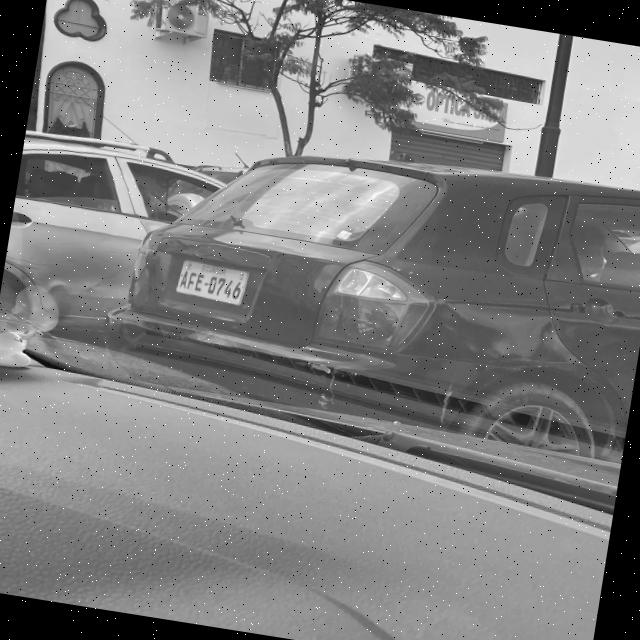Placa: (177, 260, 248, 305)
